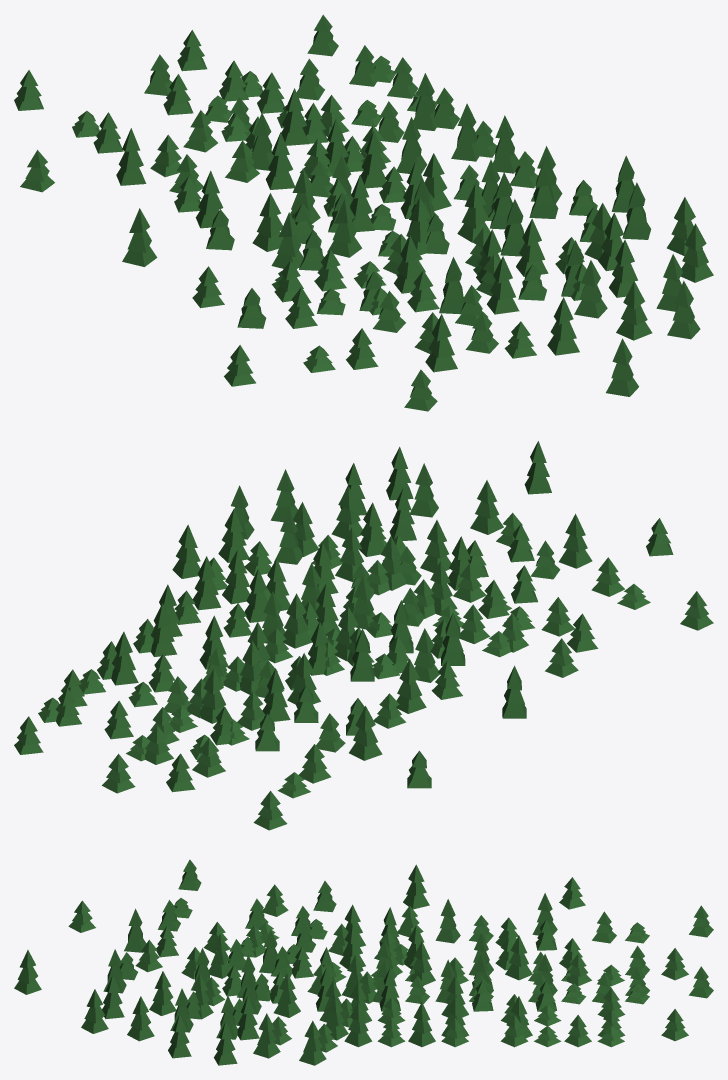
File: PineTree_lowpoly_Forest.fbx
3 renders of one model, top to bottom at view 1: azimuth 30°, elevation 25°; view 2: azimuth 150°, elevation 25°; view 3: azimuth 270°, elevation 25°, orthographic. The views are drawn at different scales.
Parts seen in each view (by area): view 1: PineTree_lowPoly88, PineTree_lowPoly91, PineTree_lowPoly28, PineTree_lowPoly30, PineTree_lowPoly76, PineTree_lowPoly87, PineTree_lowPoly84, PineTree_lowPoly24, PineTree_lowPoly95, PineTree_lowPoly92, PineTree_lowPoly93, PineTree_lowPoly20 (+69 smaller); view 2: PineTree_lowPoly20, PineTree_lowPoly76, PineTree_lowPoly84, PineTree_lowPoly12, PineTree_lowPoly14, PineTree_lowPoly73, PineTree_lowPoly74, PineTree_lowPoly72, PineTree_lowPoly10, PineTree_lowPoly17, PineTree_lowPoly79, PineTree_lowPoly18 (+60 smaller); view 3: PineTree_lowPoly93, PineTree_lowPoly94, PineTree_lowPoly9, PineTree_lowPoly10, PineTree_lowPoly16, PineTree_lowPoly92, PineTree_lowPoly95, PineTree_lowPoly28, PineTree_lowPoly74, PineTree_lowPoly75, PineTree_lowPoly83, PineTree_lowPoly80 (+69 smaller).
Part boxes in pixels (<box>): PineTree_lowPoly88: <box>616,281,652,340</box>; PineTree_lowPoly91: <box>681,223,713,282</box>; PineTree_lowPoly28: <box>122,208,157,266</box>; PineTree_lowPoly30: <box>327,199,362,257</box>; PineTree_lowPoly76: <box>547,297,579,355</box>; PineTree_lowPoly87: <box>487,256,519,314</box>; PineTree_lowPoly84: <box>425,314,457,372</box>; PineTree_lowPoly24: <box>252,193,283,251</box>; PineTree_lowPoly95: <box>667,280,700,339</box>; PineTree_lowPoly92: <box>606,338,638,396</box>; PineTree_lowPoly93: <box>574,260,607,318</box>; PineTree_lowPoly20: <box>116,128,146,185</box>; PineTree_lowPoly20: <box>349,706,382,760</box>; PineTree_lowPoly76: <box>470,480,503,534</box>; PineTree_lowPoly84: <box>559,513,592,568</box>; PineTree_lowPoly12: <box>396,659,426,713</box>; PineTree_lowPoly14: <box>283,593,312,648</box>; PineTree_lowPoly73: <box>222,550,249,604</box>; PineTree_lowPoly74: <box>172,524,200,578</box>; PineTree_lowPoly72: <box>359,502,384,556</box>; PineTree_lowPoly10: <box>192,556,221,610</box>; PineTree_lowPoly17: <box>111,631,138,685</box>; PineTree_lowPoly79: <box>331,486,362,539</box>; PineTree_lowPoly18: <box>151,603,177,656</box>; PineTree_lowPoly93: <box>149,971,176,1015</box>; PineTree_lowPoly94: <box>127,996,154,1041</box>; PineTree_lowPoly9: <box>408,1002,435,1046</box>; PineTree_lowPoly10: <box>344,1002,372,1047</box>; PineTree_lowPoly16: <box>505,935,532,980</box>; PineTree_lowPoly92: <box>14,950,41,994</box>; PineTree_lowPoly95: <box>81,989,108,1033</box>; PineTree_lowPoly28: <box>403,864,429,909</box>; PineTree_lowPoly74: <box>299,1020,326,1065</box>; PineTree_lowPoly75: <box>253,1013,280,1058</box>; PineTree_lowPoly83: <box>273,973,300,1017</box>; PineTree_lowPoly80: <box>209,934,231,978</box>.
Bounding box in the file's own units: 21.97 × 2.2 × 35.19.
